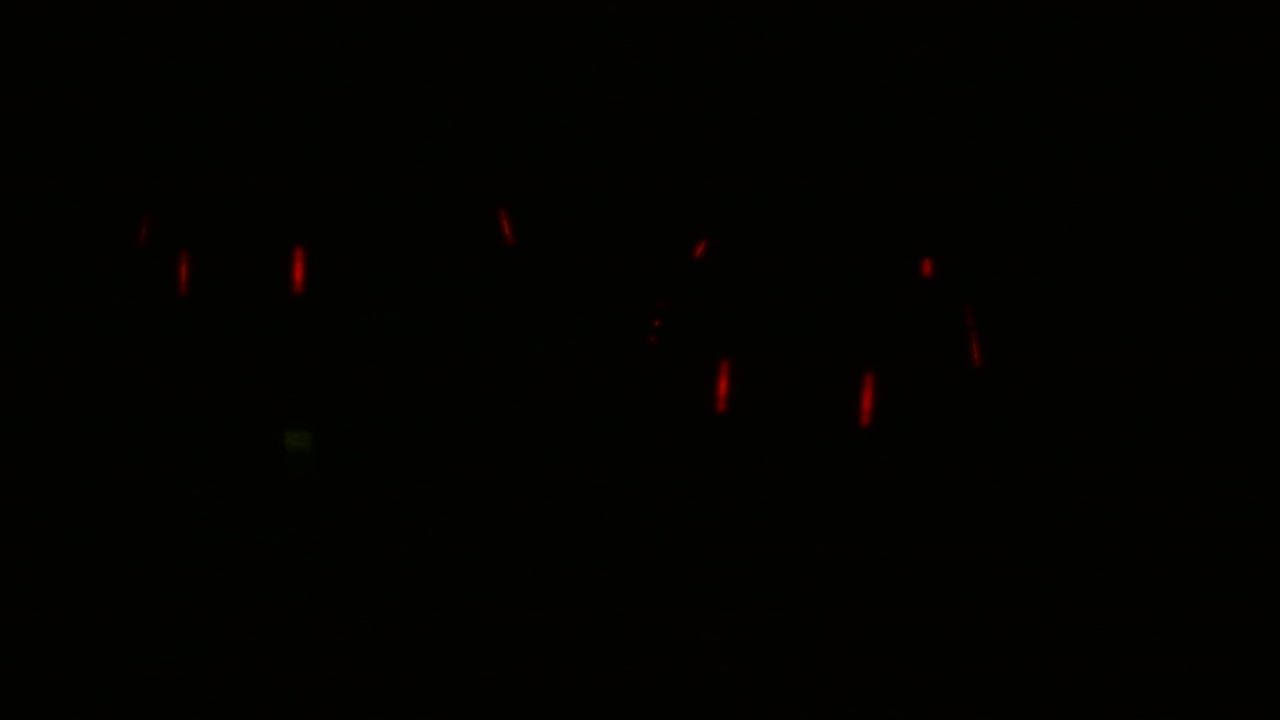pair1: (718, 351, 872, 427), (173, 245, 312, 301)
